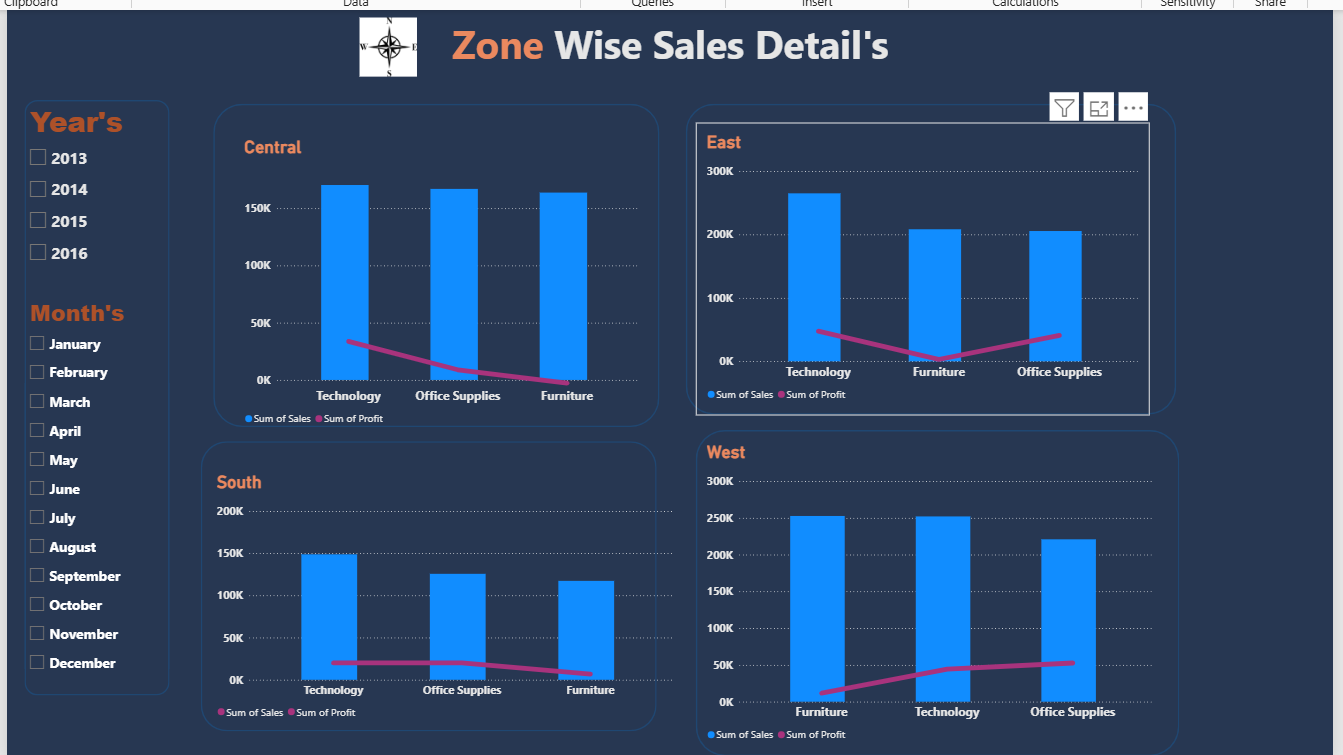

What the dashboard file says about the page in this screenshot:
{"tool":"powerbi","page":{"name":"zone wise sales detail's","canvas":[1920,1080],"ordinal":2},"visuals":[{"type":"shape","box":[298,136,646,468],"z":3500},{"type":"shape","box":[280,624,660,420],"z":3750},{"type":"textbox","box":[0,10.2,1920.4,120.4],"z":4000},{"type":"shape","box":[998,608,700,472],"z":4750},{"type":"shape","box":[982,136,710,450],"z":5500},{"type":"shape","box":[26,130,210,862],"z":8500},{"type":"slicer","fields":{"Values":["Appendregions.Order Date.Variation.Date Hierarchy.Year"]},"box":[26,132,254,286],"z":9000},{"type":"slicer","fields":{"Values":["Appendregions.Order Date.Variation.Date Hierarchy.Month"]},"box":[26,414,164,630],"z":11000},{"type":"lineStackedColumnComboChart","title":"Central","fields":{"Category":["Appendregions.Category"],"Y":["Sum(Appendregions.Sales)"],"Y2":["Sum(Appendregions.Profit)"]},"box":[328,170,602,452],"z":12000},{"type":"lineClusteredColumnComboChart","title":"East","fields":{"Category":["Appendregions.Category"],"Y":["Sum(Appendregions.Sales)"],"Y2":["Sum(Appendregions.Profit)"]},"box":[998,162,656,424],"z":13000},{"type":"lineStackedColumnComboChart","title":"South","fields":{"Category":["Appendregions.Category"],"Y":["Sum(Appendregions.Sales)"],"Y2":["Sum(Appendregions.Profit)"]},"box":[287.8,655.1,693.9,391.8],"z":14000},{"type":"lineClusteredColumnComboChart","title":"West","fields":{"Category":["Appendregions.Category"],"Y":["Sum(Appendregions.Sales)"],"Y2":["Sum(Appendregions.Profit)"]},"box":[998,612,680,468],"z":15000},{"type":"image","box":[440.8,10.2,220.4,85.7],"z":18000}]}

Visuals, with their boxes on the page's 1920x1080 design canvas (x1, y1, x2, y2). These are canvas units, not pixel positions in the 1343x755 screenshot, which may show the page scaled, cropped or inside an application window:
shape: <bbox>298, 136, 944, 604</bbox>
shape: <bbox>280, 624, 940, 1044</bbox>
textbox: <bbox>0, 10, 1920, 131</bbox>
shape: <bbox>998, 608, 1698, 1080</bbox>
shape: <bbox>982, 136, 1692, 586</bbox>
shape: <bbox>26, 130, 236, 992</bbox>
slicer - Appendregions.Order Date.Variation.Date Hierarchy.Year: <bbox>26, 132, 280, 418</bbox>
slicer - Appendregions.Order Date.Variation.Date Hierarchy.Month: <bbox>26, 414, 190, 1044</bbox>
"Central" lineStackedColumnComboChart: <bbox>328, 170, 930, 622</bbox>
"East" lineClusteredColumnComboChart: <bbox>998, 162, 1654, 586</bbox>
"South" lineStackedColumnComboChart: <bbox>288, 655, 982, 1047</bbox>
"West" lineClusteredColumnComboChart: <bbox>998, 612, 1678, 1080</bbox>
image: <bbox>441, 10, 661, 96</bbox>
